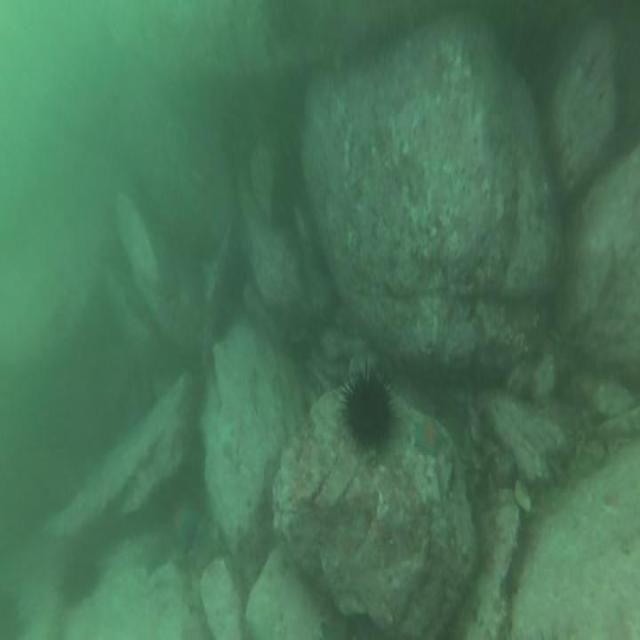echinus: (335, 357, 400, 462), (206, 239, 252, 349), (57, 536, 104, 618)
starfish: (132, 531, 178, 580), (411, 408, 449, 464)
